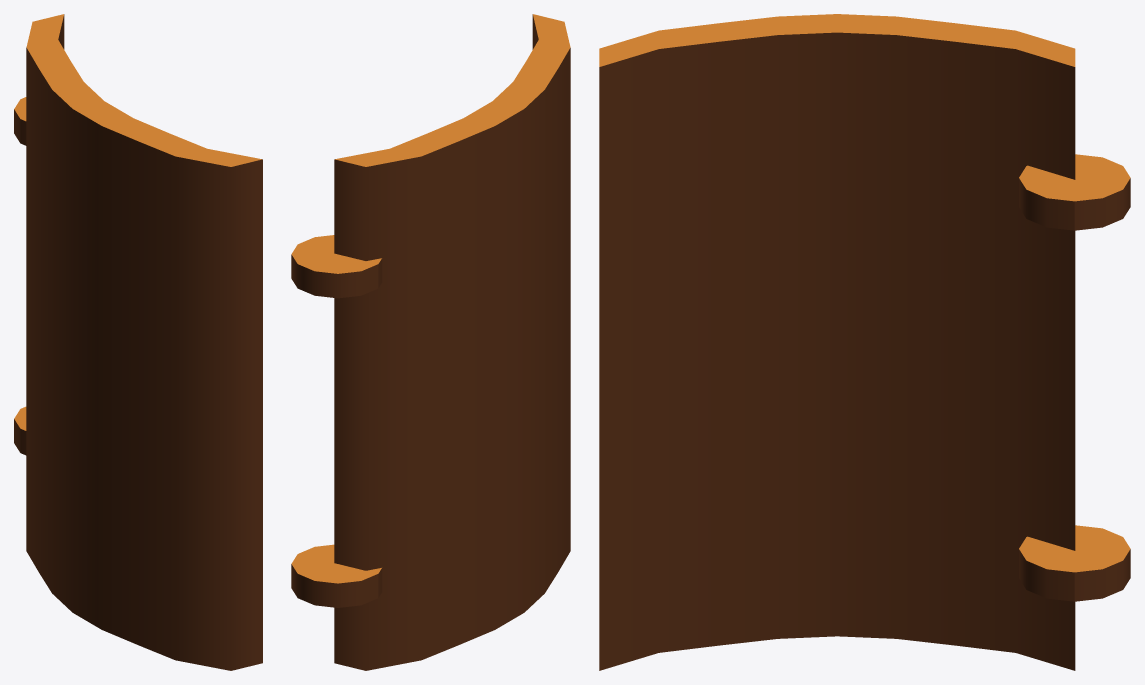
File: Door.fbx
The picture shows the model from 3 angles, left to right: view 1: azimuth 30°, elevation 25°; view 2: azimuth 150°, elevation 25°; view 3: azimuth 270°, elevation 25°; orthographic projection. The views are drawn at different scales.
Visible parts, largest first — view 1: Door; view 2: Door; view 3: Door.
Part boxes in pixels (x1,y1,x2,y2): Door: [14, 14, 262, 670]; Door: [291, 14, 570, 670]; Door: [599, 14, 1130, 670].
Size of the model in its own units: 10.99 by 41.47 by 33.07.
